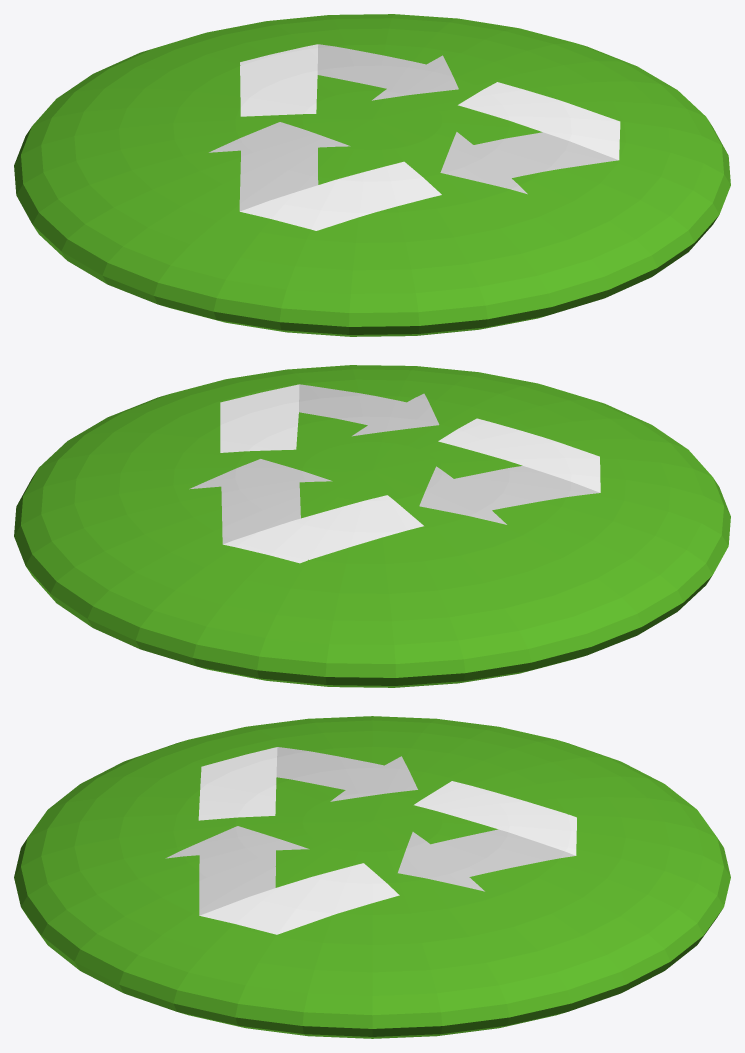
The model's file is button2-2.fbx.
3 views of the same model, one above another, from view 1: azimuth 30°, elevation 25°; view 2: azimuth 150°, elevation 25°; view 3: azimuth 270°, elevation 25° (orthographic).
Parts seen in each view (by area): view 1: Sphere; view 2: Sphere; view 3: Sphere.
Part boxes in pixels (x1,y1,x2,y2): Sphere: [14, 14, 730, 336]; Sphere: [14, 365, 730, 687]; Sphere: [14, 716, 730, 1038].
Size of the model in its own units: 200 by 34.42 by 200.
